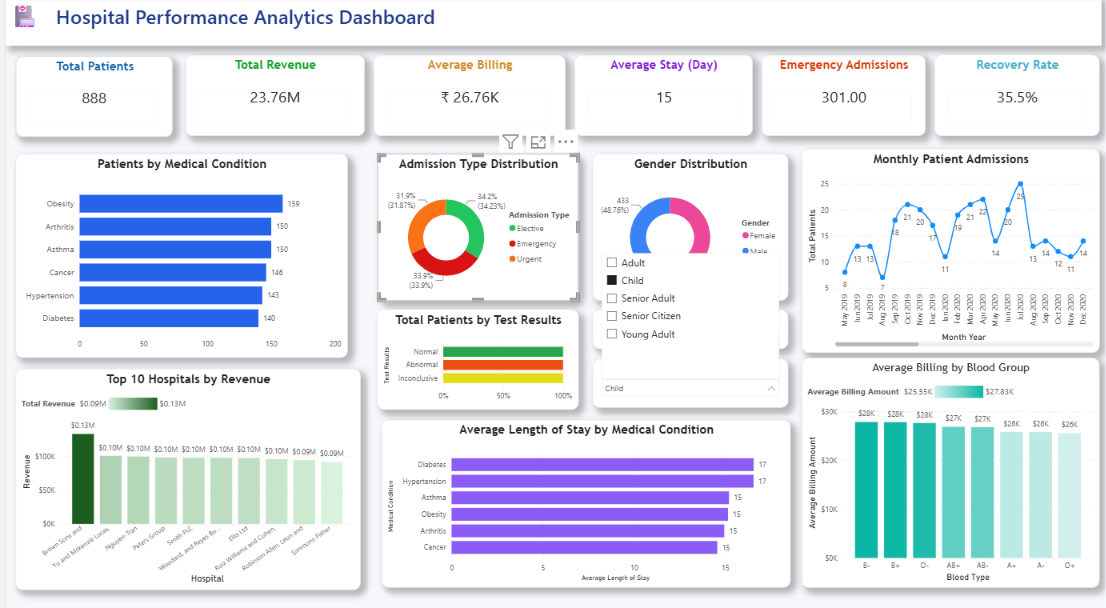

Layout of this report page (visuals, bound fields, positions):
{"tool":"powerbi","page":{"name":"Page 1","canvas":[1800,1000],"ordinal":0},"visuals":[{"type":"cardVisual","title":"Total Revenue","fields":{"Data":["healthcare_dataset.Total Revenue"]},"box":[294.3,94.8,292.7,132.4],"z":0},{"type":"cardVisual","title":"Total Patients","fields":{"Data":["healthcare_dataset.Total Patients"]},"box":[16,96,256.7,132.4],"z":1000},{"type":"cardVisual","title":"Average Billing","fields":{"Data":["healthcare_dataset.Average Billing Amount"]},"box":[601.7,94.8,314,132.4],"z":2000},{"type":"cardVisual","title":"Average Stay (Day)","fields":{"Data":["healthcare_dataset.Average Length of Stay"]},"box":[930.4,94.8,291.1,132.4],"z":3000},{"type":"cardVisual","title":"Emergency Admissions","fields":{"Data":["healthcare_dataset.Emergency Admissions"]},"box":[1236.2,94.8,268.2,132.4],"z":4000},{"type":"clusteredBarChart","title":"Patients by Medical Condition  ","fields":{"Category":["healthcare_dataset.Medical Condition"],"Y":["healthcare_dataset.Total Patients"]},"box":[16,256,542.9,333.6],"z":5000},{"type":"textbox","box":[0,0,1792,80],"z":6000},{"type":"lineChart","title":"Monthly Patient Admissions","fields":{"Category":["healthcare_dataset.Month Year"],"Y":["healthcare_dataset.Total Patients"]},"box":[1301.6,248.5,487.3,333.6],"z":8000},{"type":"cardVisual","title":"Recovery Rate","fields":{"Data":["healthcare_dataset.Recovery Rate"]},"box":[1519.1,94.8,269.8,132.4],"z":9000},{"type":"donutChart","title":"Gender Distribution","fields":{"Category":["healthcare_dataset.Gender"],"Y":["healthcare_dataset.Total Patients"]},"box":[960,256,320,240],"z":10000},{"type":"donutChart","title":"Admission Type Distribution","fields":{"Category":["healthcare_dataset.Admission Type"],"Y":["healthcare_dataset.Total Patients"]},"box":[608,256,328.7,240.4],"z":11000},{"type":"clusteredColumnChart","title":"Top 10 Hospitals by Revenue","fields":{"Category":["healthcare_dataset.Hospital"],"Y":["healthcare_dataset.Total Revenue"]},"box":[16,608,564.1,361.4],"z":12000},{"type":"hundredPercentStackedBarChart","fields":{"Category":["healthcare_dataset.Test Results"],"Y":["healthcare_dataset.Total Patients"]},"box":[608,512,328.7,163.5],"z":13000},{"type":"slicer","fields":{"Values":["healthcare_dataset.Hospital"]},"box":[960,512,320,64],"z":14000},{"type":"slicer","fields":{"Values":["healthcare_dataset.Age Category"]},"box":[960,592,320,80],"z":15000},{"type":"clusteredColumnChart","title":"Average Billing by Blood Group","fields":{"Category":["healthcare_dataset.Blood Type"],"Y":["healthcare_dataset.Average Billing Amount"]},"box":[1301.6,590.3,487,376],"z":16000},{"type":"clusteredBarChart","fields":{"Category":["healthcare_dataset.Medical Condition"],"Y":["healthcare_dataset.Average Length of Stay"]},"box":[614.8,691.7,668.8,274.7],"z":17000}]}

Visuals, with their boxes in screenshot pixels (x1, y1, x2, y2), scaled from the page's 1800x1000 canvas onto the 1106x608 screenshot:
"Total Revenue" cardVisual: bbox(181, 58, 361, 138)
"Total Patients" cardVisual: bbox(10, 58, 168, 139)
"Average Billing" cardVisual: bbox(370, 58, 563, 138)
"Average Stay (Day)" cardVisual: bbox(572, 58, 751, 138)
"Emergency Admissions" cardVisual: bbox(760, 58, 924, 138)
"Patients by Medical Condition  " clusteredBarChart: bbox(10, 156, 343, 358)
textbox: bbox(0, 0, 1101, 49)
"Monthly Patient Admissions" lineChart: bbox(800, 151, 1099, 354)
"Recovery Rate" cardVisual: bbox(933, 58, 1099, 138)
"Gender Distribution" donutChart: bbox(590, 156, 786, 302)
"Admission Type Distribution" donutChart: bbox(374, 156, 576, 302)
"Top 10 Hospitals by Revenue" clusteredColumnChart: bbox(10, 370, 356, 589)
hundredPercentStackedBarChart - healthcare_dataset.Test Results x healthcare_dataset.Total Patients: bbox(374, 311, 576, 411)
slicer - healthcare_dataset.Hospital: bbox(590, 311, 786, 350)
slicer - healthcare_dataset.Age Category: bbox(590, 360, 786, 409)
"Average Billing by Blood Group" clusteredColumnChart: bbox(800, 359, 1099, 588)
clusteredBarChart - healthcare_dataset.Medical Condition x healthcare_dataset.Average Length of Stay: bbox(378, 421, 789, 588)
